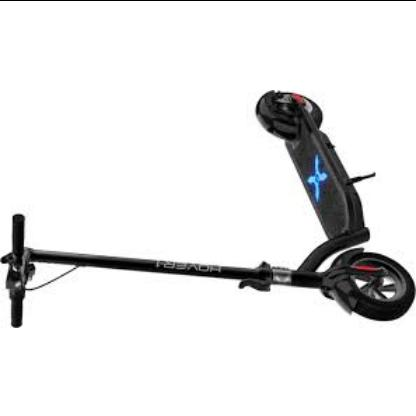bike: (0, 88, 416, 323)
